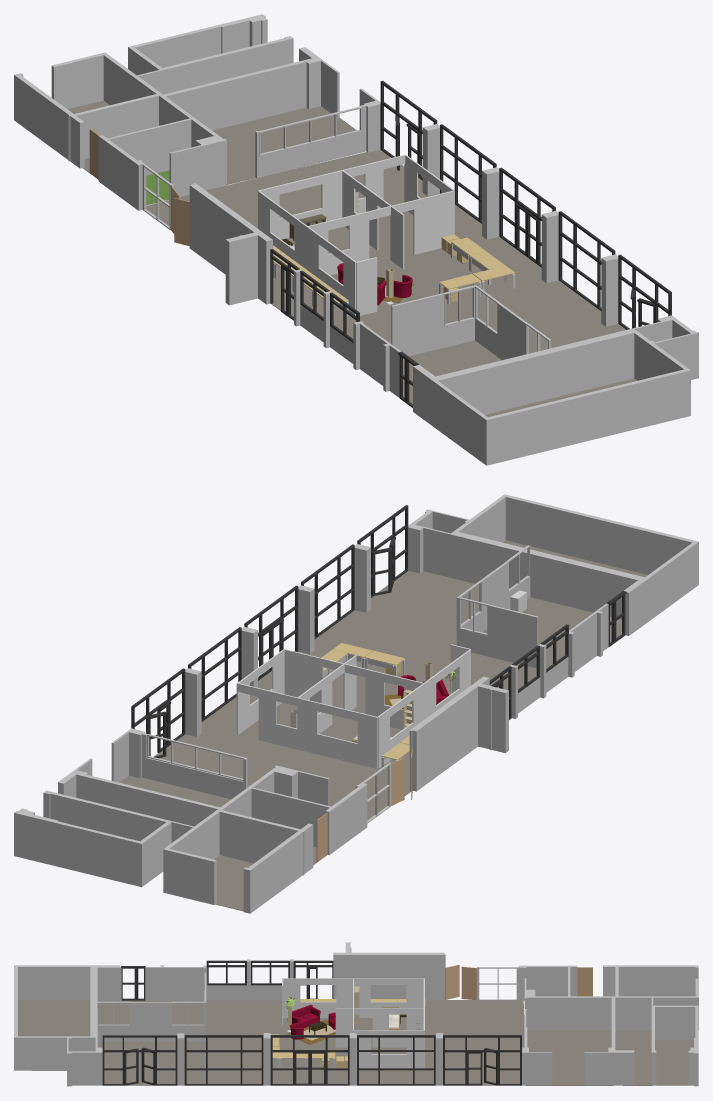
The model's file is laas_adream.dae.
The picture shows the model from 3 angles, top to bottom: view 1: azimuth 30°, elevation 25°; view 2: azimuth 150°, elevation 25°; view 3: azimuth 270°, elevation 25°; orthographic projection. The views are drawn at different scales.
Visible parts, largest first — view 1: walls_002, walls_010, Floor_h020, glass_wall_h20_1, walls_004, Floor_h022, walls_011, walls_001, walls_000, Floor_h021, walls_005, walls_007 (+12 smaller); view 2: walls_002, walls_010, Floor_h020, walls_004, glass_wall_h20_1, walls_001, walls_011, walls_000, Floor_h021, walls_005, Floor_h002, Floor_h022 (+13 smaller); view 3: Floor_h020, walls_002, walls_010, glass_wall_h20_1, walls_004, walls_011, Floor_h022, Floor_h006, walls_005, Floor_h021, Floor_h003, Floor_h004 (+34 smaller).
Boxes of the visible parts, x1=… form: walls_002: x1=14, y1=14, x2=339, y2=210; walls_010: x1=413, y1=315, x2=698, y2=465; Floor_h020: x1=146, y1=149, x2=626, y2=353; glass_wall_h20_1: x1=380, y1=80, x2=671, y2=329; walls_004: x1=189, y1=183, x2=272, y2=305; Floor_h022: x1=212, y1=106, x2=356, y2=184; walls_011: x1=294, y1=269, x2=400, y2=397; walls_001: x1=255, y1=88, x2=380, y2=177; walls_000: x1=391, y1=285, x2=476, y2=356; Floor_h021: x1=403, y1=340, x2=501, y2=403; walls_005: x1=475, y1=303, x2=527, y2=360; walls_007: x1=482, y1=167, x2=499, y2=239; walls_002: x1=14, y1=758, x2=367, y2=913; walls_010: x1=408, y1=494, x2=698, y2=635; Floor_h020: x1=153, y1=571, x2=536, y2=820; walls_004: x1=409, y1=676, x2=508, y2=791; glass_wall_h20_1: x1=131, y1=505, x2=408, y2=745; walls_001: x1=111, y1=728, x2=247, y2=799; walls_011: x1=510, y1=603, x2=608, y2=718; walls_000: x1=456, y1=597, x2=538, y2=668; Floor_h021: x1=482, y1=597, x2=621, y2=668; walls_005: x1=461, y1=561, x2=530, y2=632; Floor_h002: x1=214, y1=855, x2=253, y2=911; Floor_h022: x1=119, y1=775, x2=230, y2=807; Floor_h020: x1=97, y1=1000, x2=524, y2=1085; walls_002: x1=517, y1=965, x2=698, y2=1086; walls_010: x1=14, y1=965, x2=121, y2=1086; glass_wall_h20_1: x1=102, y1=1035, x2=521, y2=1085; walls_004: x1=333, y1=942, x2=445, y2=1000; walls_011: x1=146, y1=959, x2=293, y2=1000; Floor_h022: x1=526, y1=1030, x2=612, y2=1085; Floor_h006: x1=18, y1=1000, x2=90, y2=1036; walls_005: x1=97, y1=1002, x2=204, y2=1041; Floor_h021: x1=97, y1=1000, x2=204, y2=1024; Floor_h003: x1=655, y1=1040, x2=693, y2=1085; Floor_h004: x1=615, y1=1030, x2=652, y2=1085.
Size of the model in its own units: 13.45 by 39.63 by 3.2.
